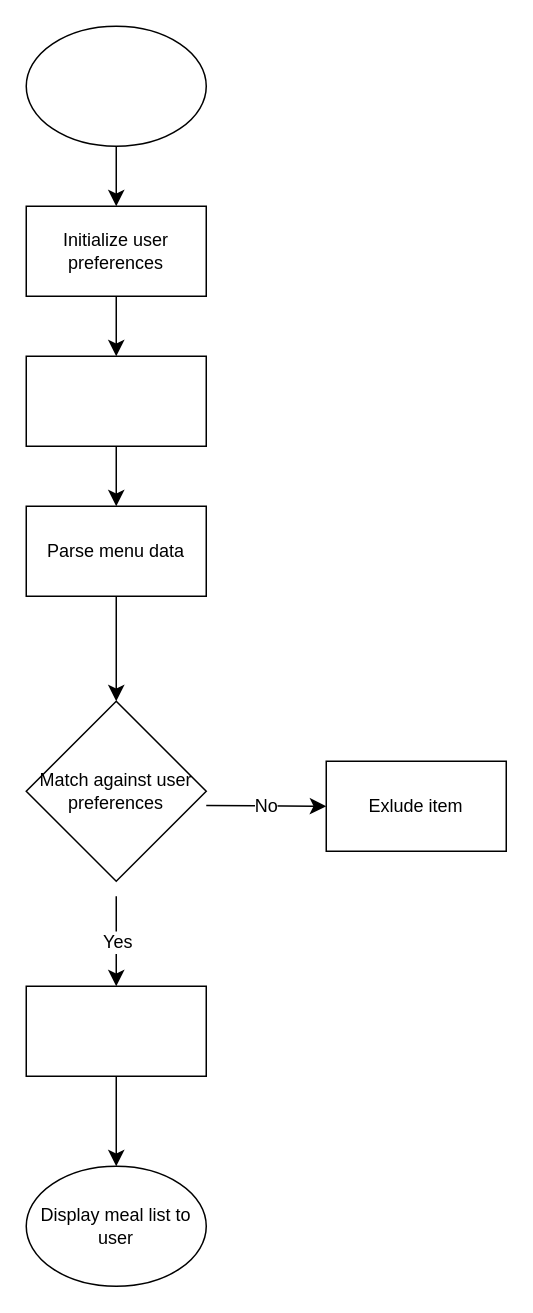
This 533x1313 diagram has some shape labels left out. The shapes that lost their labels are listed below. From the top down, each one's centre as x and y in pixels, then its label:
At [115,85]: "Program Entry Point".
At [115,400]: "Fetch dining hall menu".
At [115,1030]: "Create filtered meal list".
